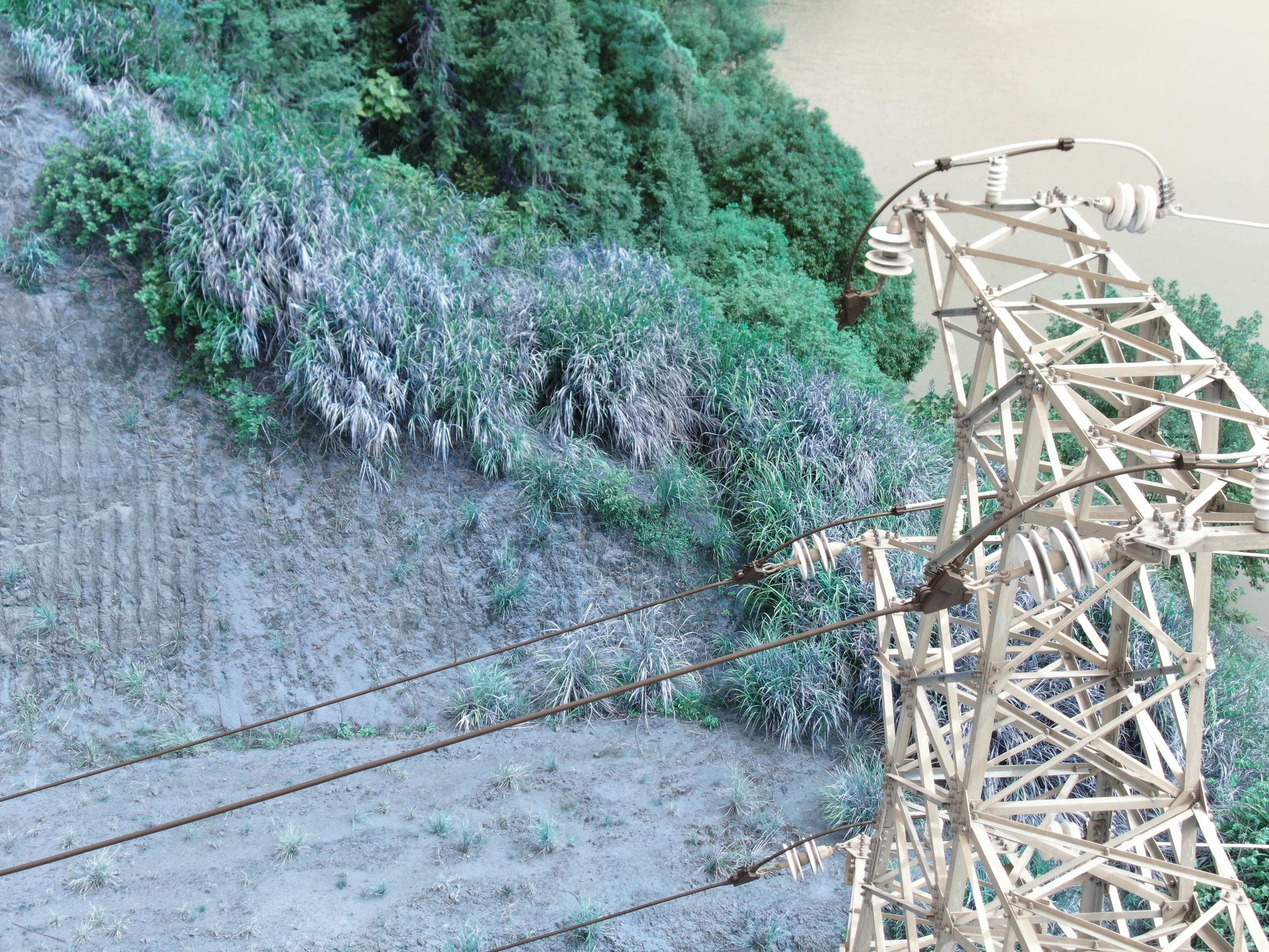severe_soiling_no_discharge_whole: (862, 211, 917, 278)
